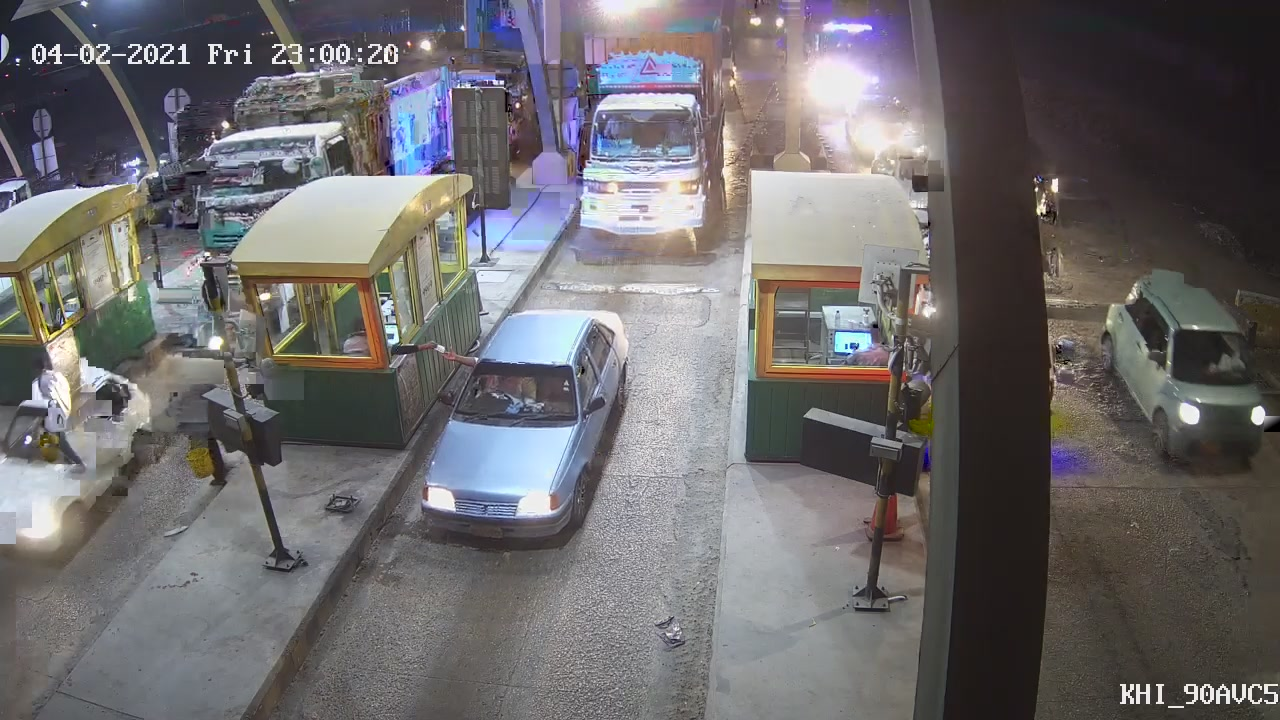F1: (418, 302, 629, 539)
F6: (580, 28, 724, 253)
